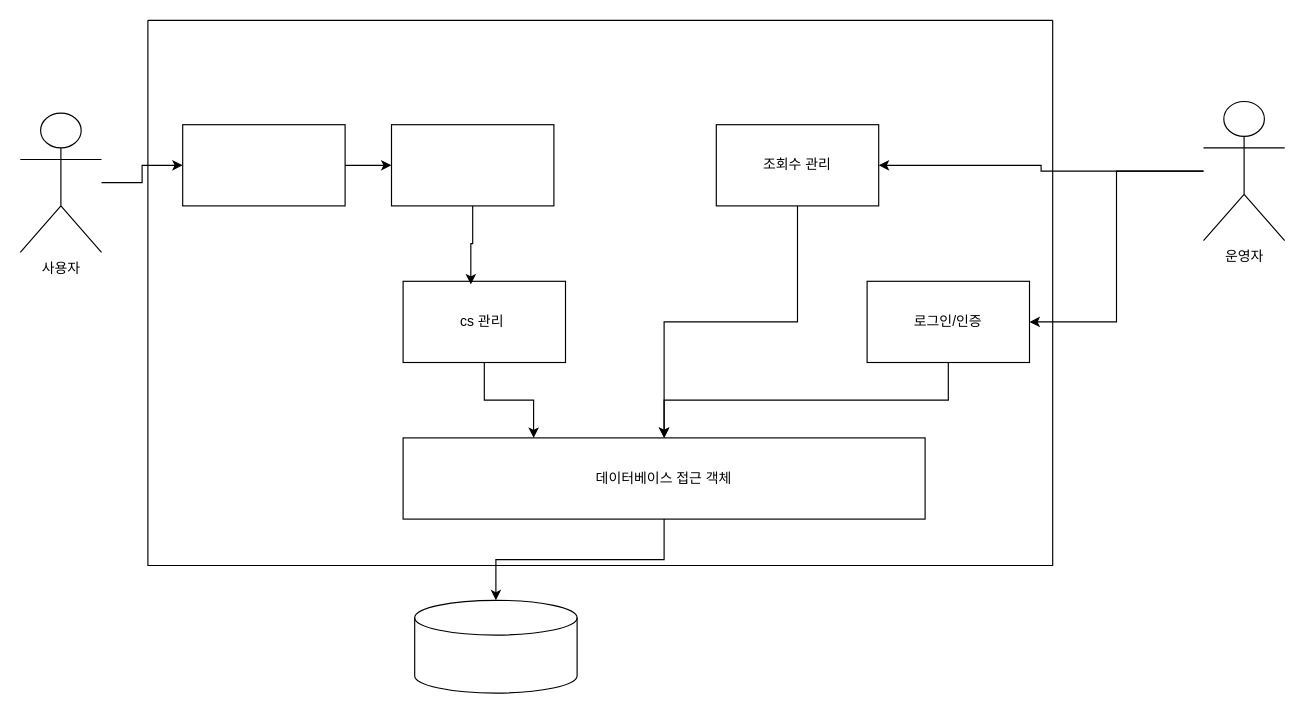
This 1305x713 diagram has some shape labels left out. Here are the shapes that lost their labels. From the top down, the centre of each, then its label:
the point at 263,165: Viewer
the point at 472,165: kategory controller
the point at 495,646: DB
